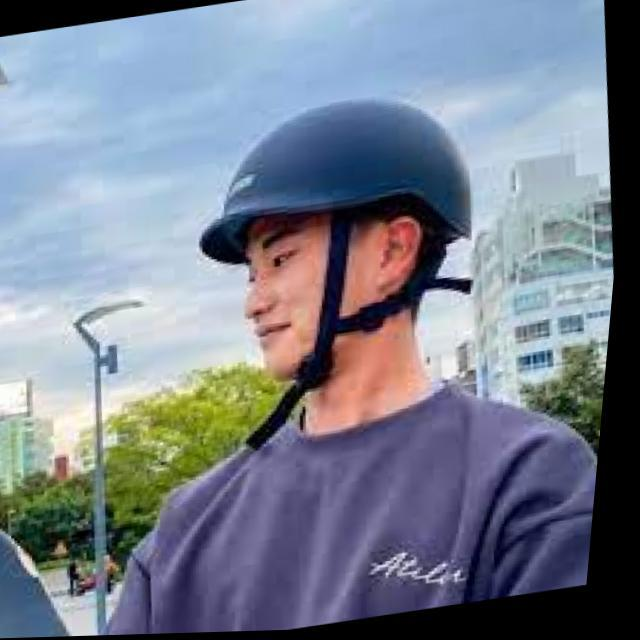Helmet: (182, 80, 488, 392)
